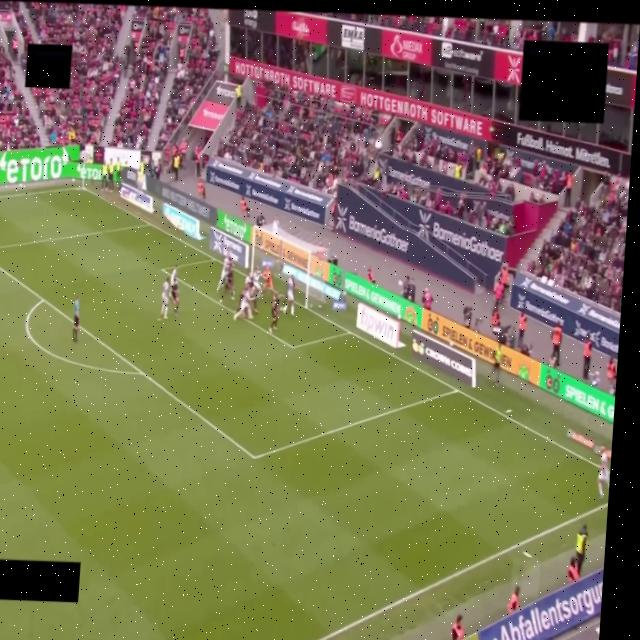player: (168, 265, 182, 318), (217, 252, 232, 292), (233, 289, 252, 320), (221, 261, 234, 303), (598, 450, 609, 498), (282, 275, 295, 315), (245, 273, 258, 313), (158, 278, 170, 320), (270, 293, 280, 332), (262, 266, 273, 292), (253, 269, 262, 297)
referee: (72, 295, 82, 342)
